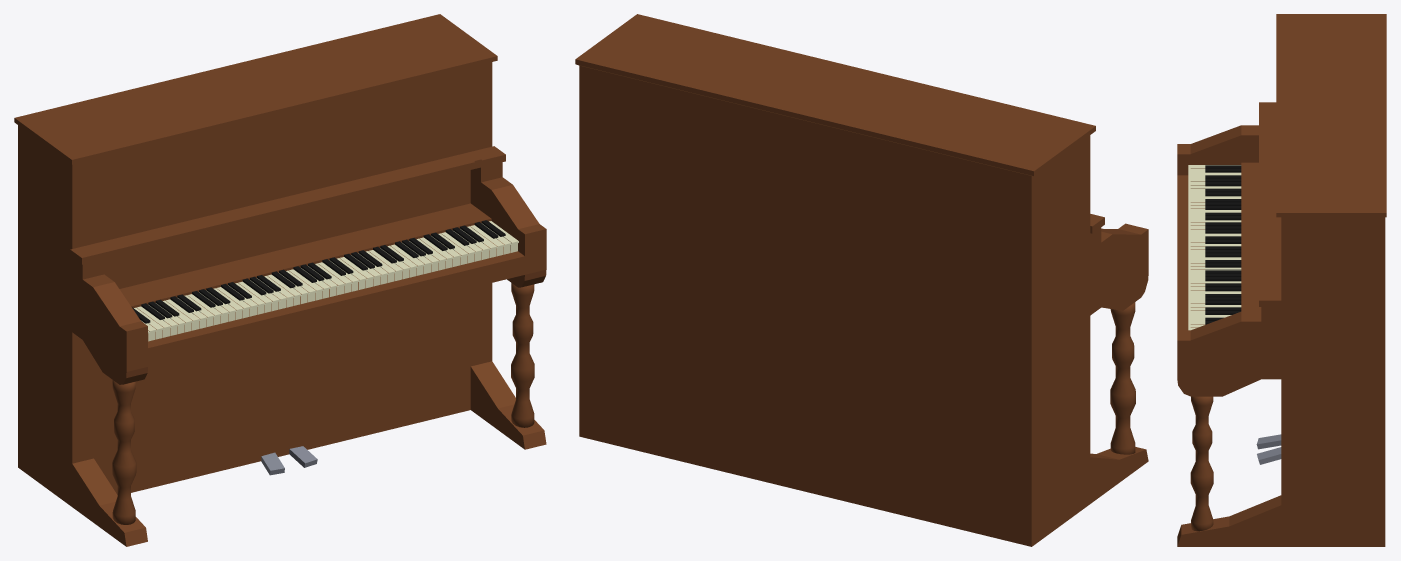
File: Piano.fbx
3 views of the same model, side by side, from view 1: azimuth 30°, elevation 25°; view 2: azimuth 150°, elevation 25°; view 3: azimuth 270°, elevation 25° (orthographic). The views are drawn at different scales.
Visible parts, largest first — view 1: Cube.006; view 2: Cube.006; view 3: Cube.006.
Boxes of the visible parts, <box> form: Cube.006: <box>14,14,546,546</box>; Cube.006: <box>575,14,1148,546</box>; Cube.006: <box>1177,14,1386,546</box>.
Size of the model in its own units: 154 by 123 by 68.46.
